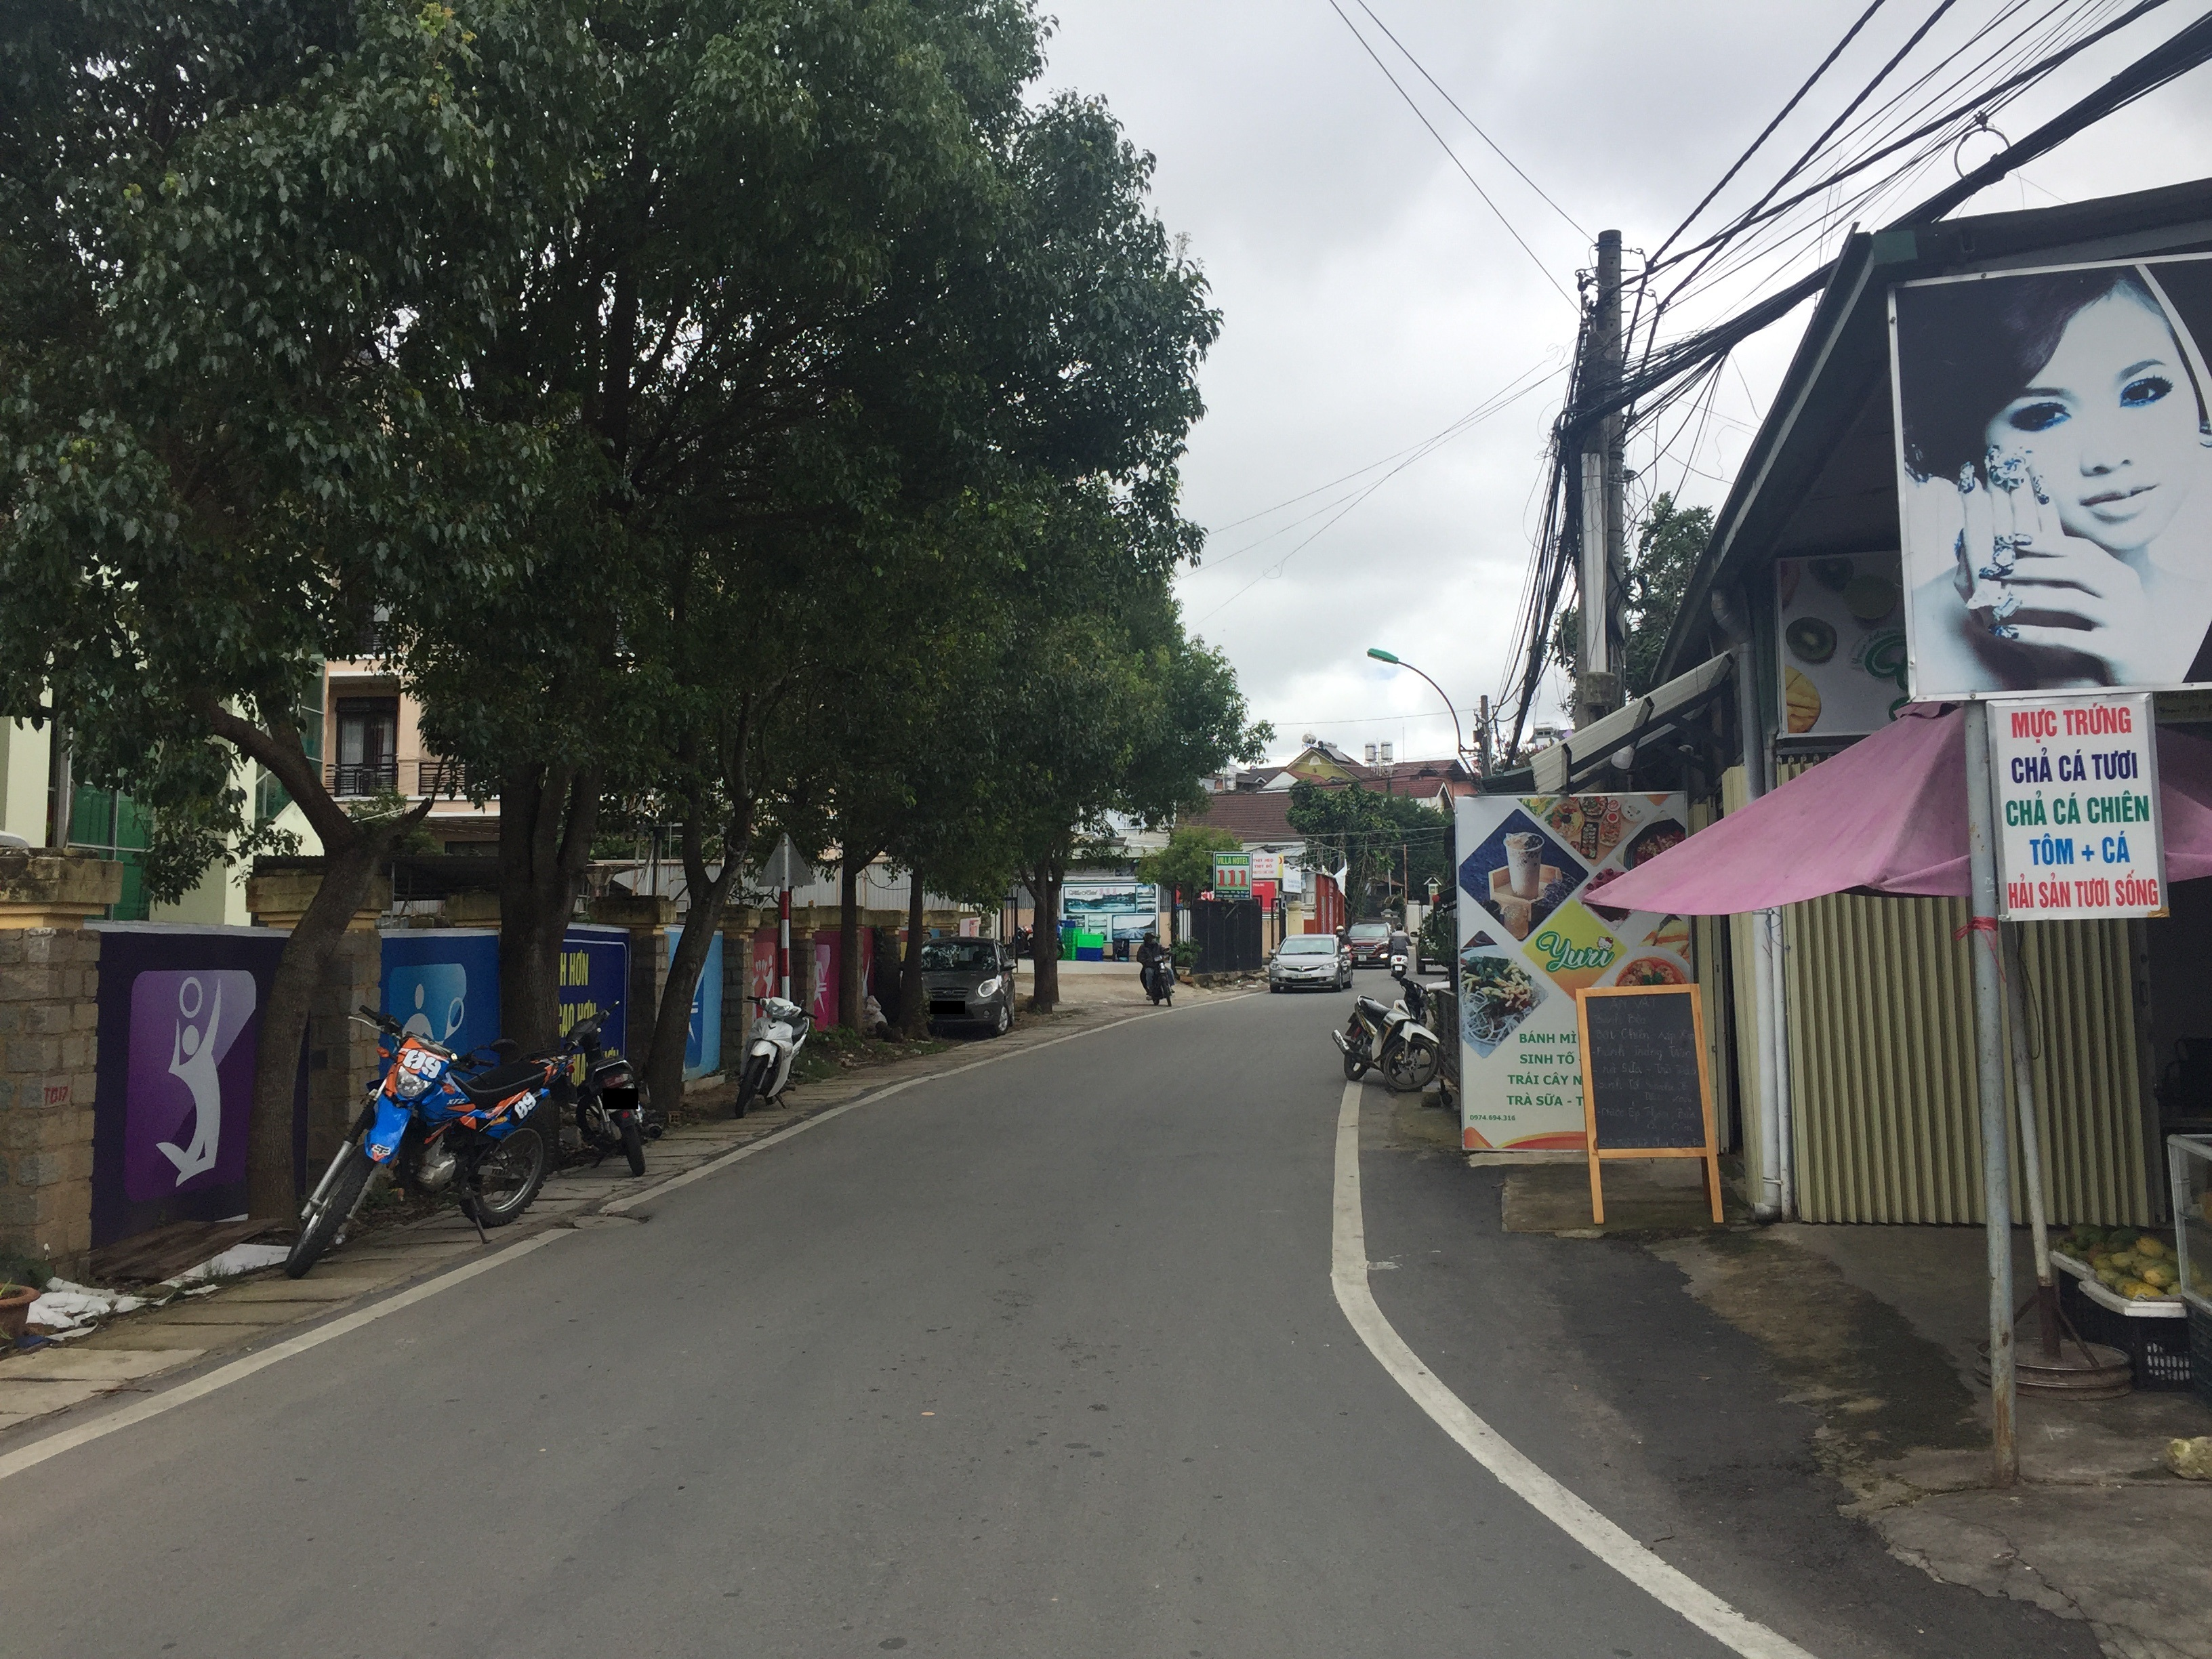hole: (561, 1213, 653, 1229)
